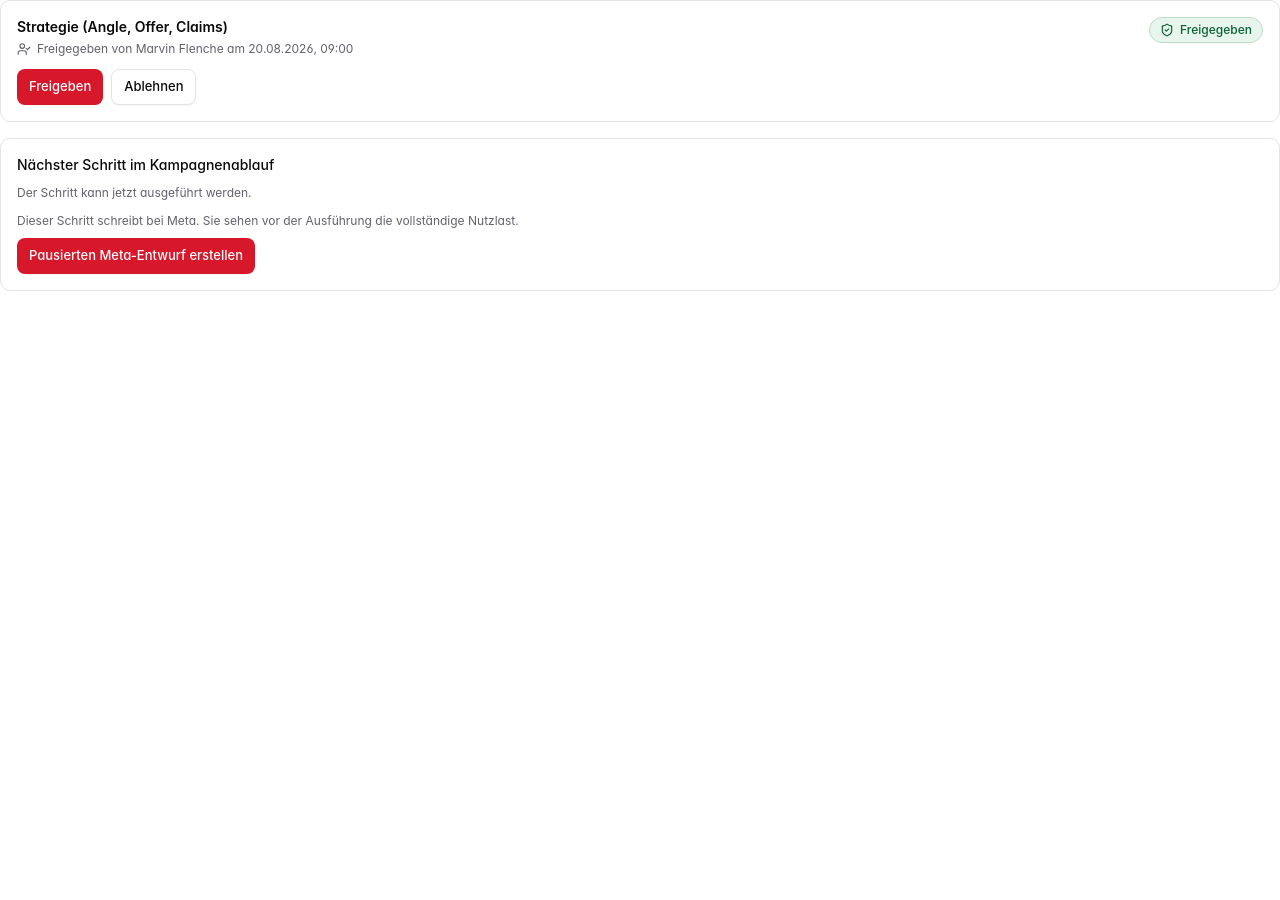
ApprovalPanel — content-hash invalidation › confirms a step that writes to Meta against the payload before running it
The width and height of the screenshot is (1280, 900).
Later steps or results of the test are not shown.
Click the button "Pausierten Meta-Entwurf erstellen": [136, 256] box [17, 238, 255, 274]
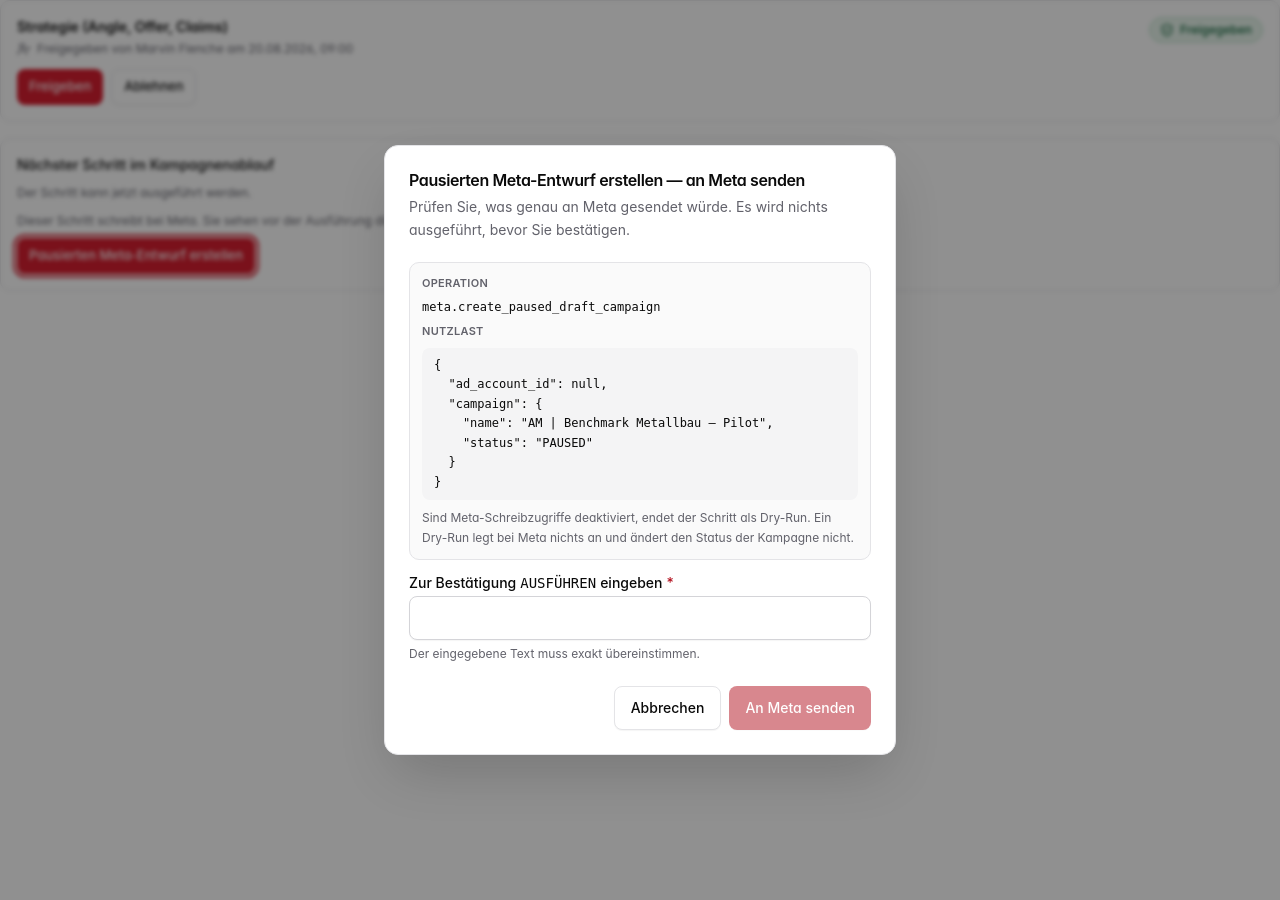
Now the dialog shows "meta.create_paused_draft_campaign", box [422, 300, 660, 314]
Now the dialog shows "\"ad_account_id\": null", box [434, 358, 774, 488]
Now the dialog shows "Ein Dry-Run legt bei Meta nichts an", box [422, 510, 854, 544]
